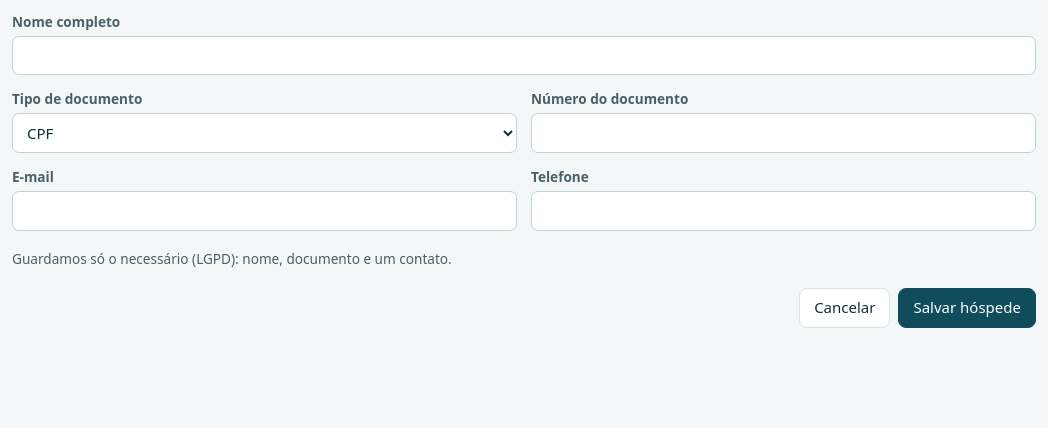
Scenario: HospedeForm › não envia enquanto inválido
The image size is (1048, 428).
Click the button "Salvar hóspede" at (967, 308), box x1=898 y1=288 x2=1036 y2=328
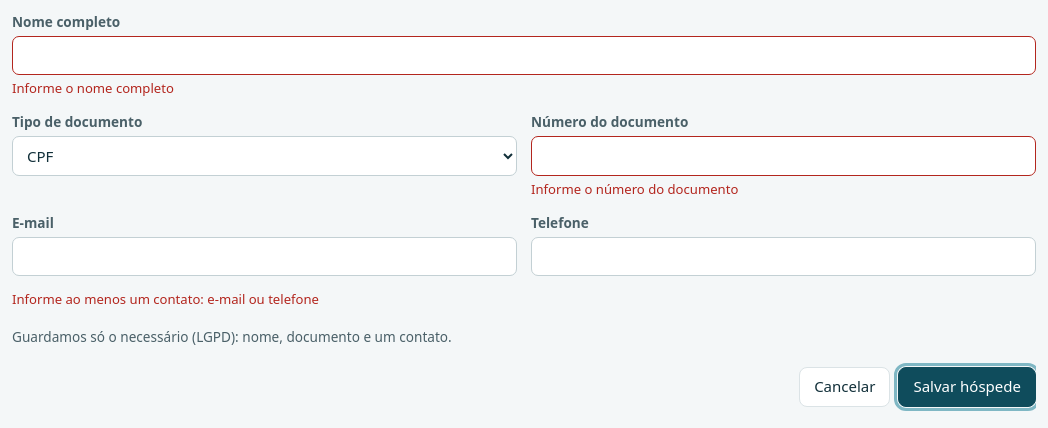
Check: the text "Informe o nome completo" is shown, box x1=12 y1=80 x2=174 y2=98
Check: the text "Informe ao menos um contato: e-mail ou telefone" is shown, box x1=12 y1=290 x2=319 y2=308
